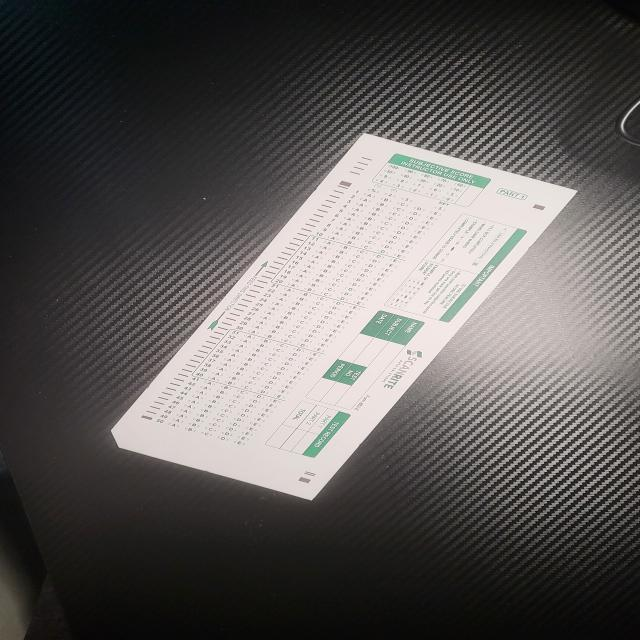scantron: (111, 132, 584, 502)
